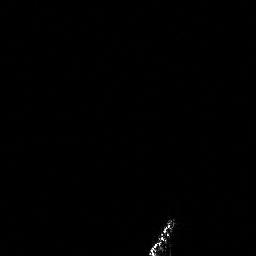ship: (145, 214, 181, 256)
